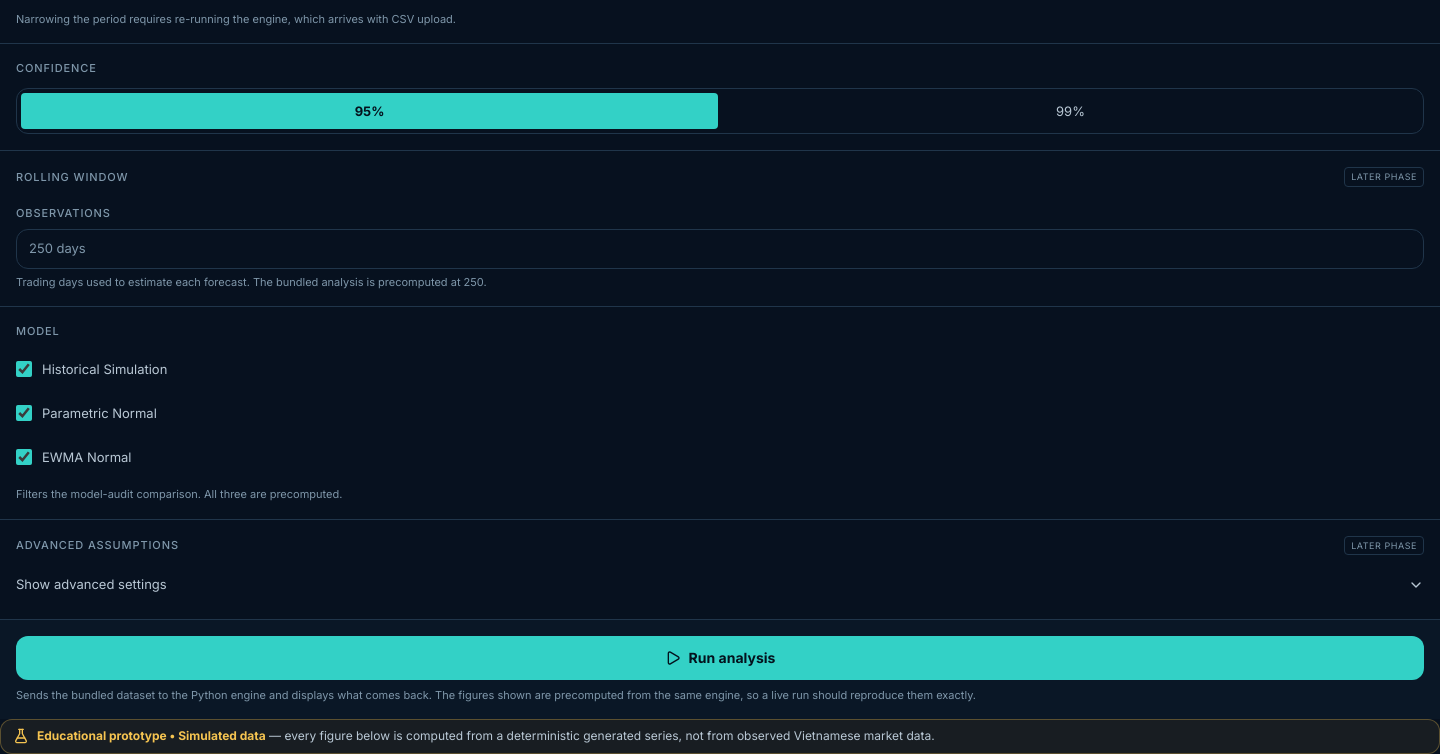
Run analysis on the bundled dataset › reports a failed live run without discarding the displayed analysis
The image size is (1440, 754).
(page scrolled)
Click the button "Run analysis" at (720,658), box [16,636,1424,680]
(page scrolled)
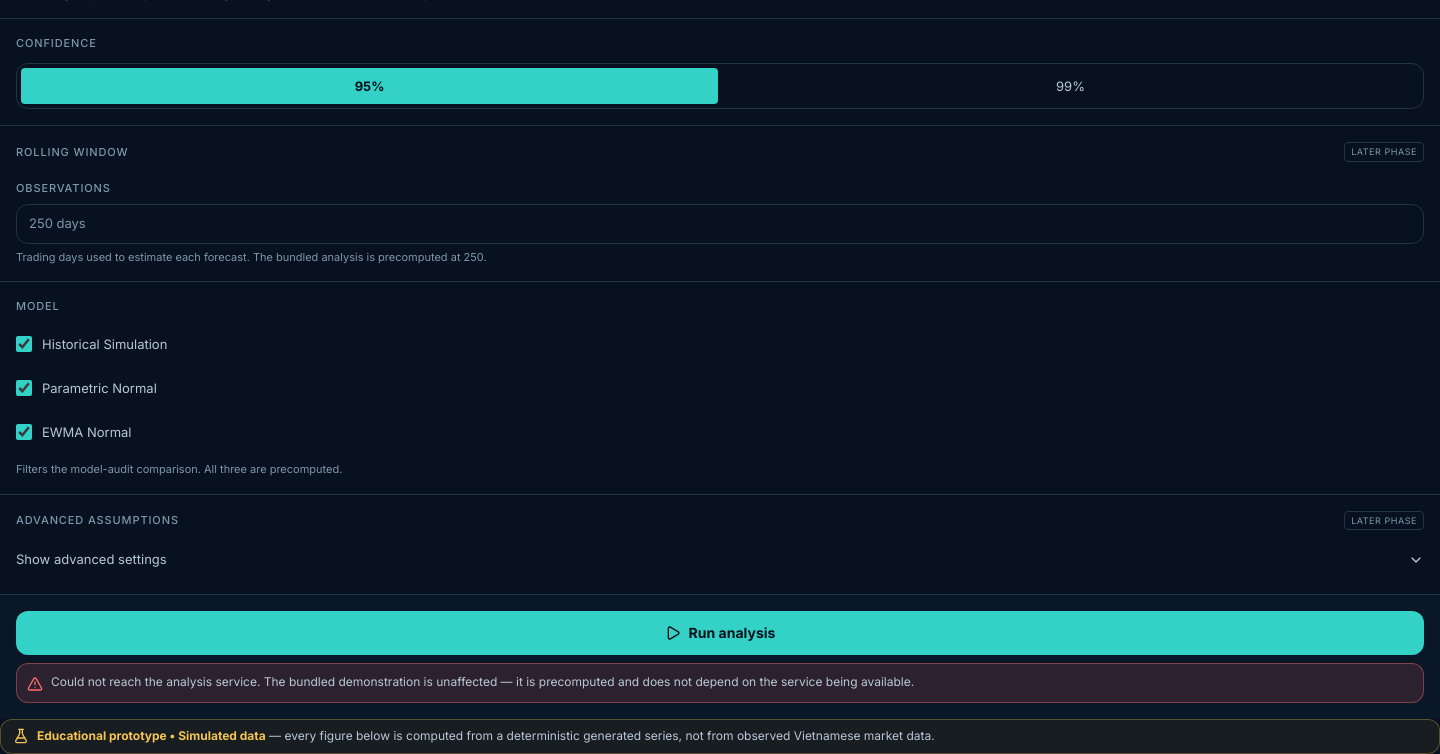
Expected: the text "Educational prototype • Simulated data" is shown, [37,728,266,743]
Now the message shows "Could not reach the analysis service", box [51,674,914,689]
